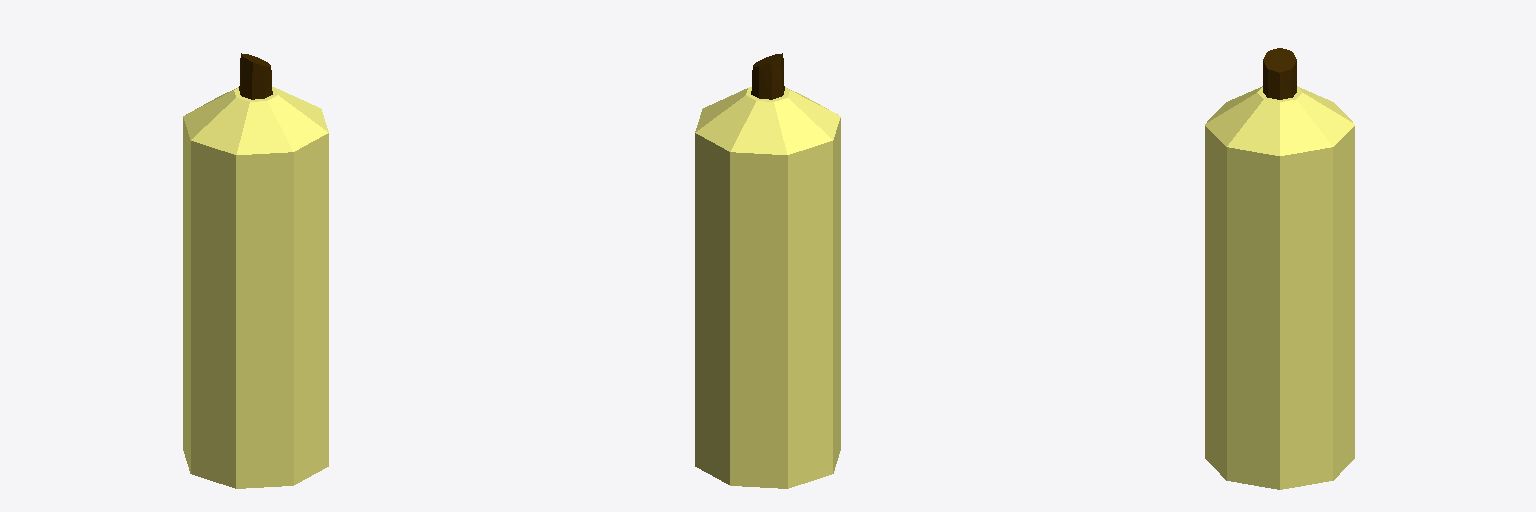
The model's file is Candle.obj.
3 renders of one model, left to right at view 1: azimuth 30°, elevation 25°; view 2: azimuth 150°, elevation 25°; view 3: azimuth 270°, elevation 25°, orthographic.
Parts seen in each view (by area): view 1: Candle_Circle.008; view 2: Candle_Circle.008; view 3: Candle_Circle.008.
Part boxes in pixels (x1,y1,x2,y2): Candle_Circle.008: (183, 53, 328, 488); Candle_Circle.008: (695, 53, 840, 488); Candle_Circle.008: (1205, 48, 1354, 489).
Bounding box in the file's own units: 0.436 × 1.29 × 0.436.